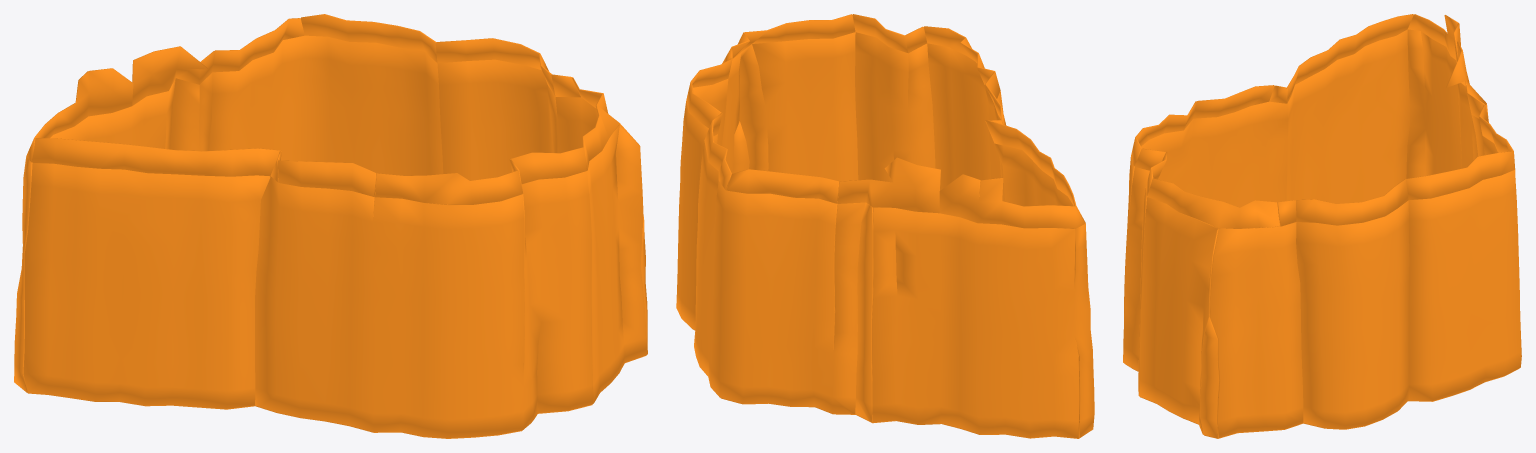
File: smithy_hover.glb
The picture shows the model from 3 angles, left to right: view 1: azimuth 30°, elevation 25°; view 2: azimuth 150°, elevation 25°; view 3: azimuth 270°, elevation 25°; orthographic projection. The views are drawn at different scales.
Visible parts, largest first — view 1: smithy_hover; view 2: smithy_hover; view 3: smithy_hover.
Boxes of the visible parts, x1,y1,x2,y2 form: smithy_hover: [14, 14, 647, 438]; smithy_hover: [676, 14, 1094, 438]; smithy_hover: [1123, 14, 1521, 438].
Bounding box in the file's own units: 2.22 × 1.15 × 1.72.
Materials: 1 (1 with a texture image).
